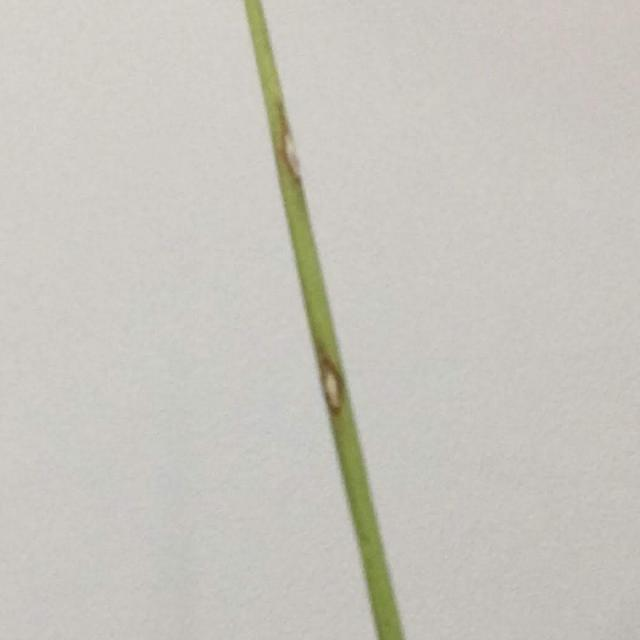Blast: (320, 360, 344, 414), (284, 137, 300, 189)
